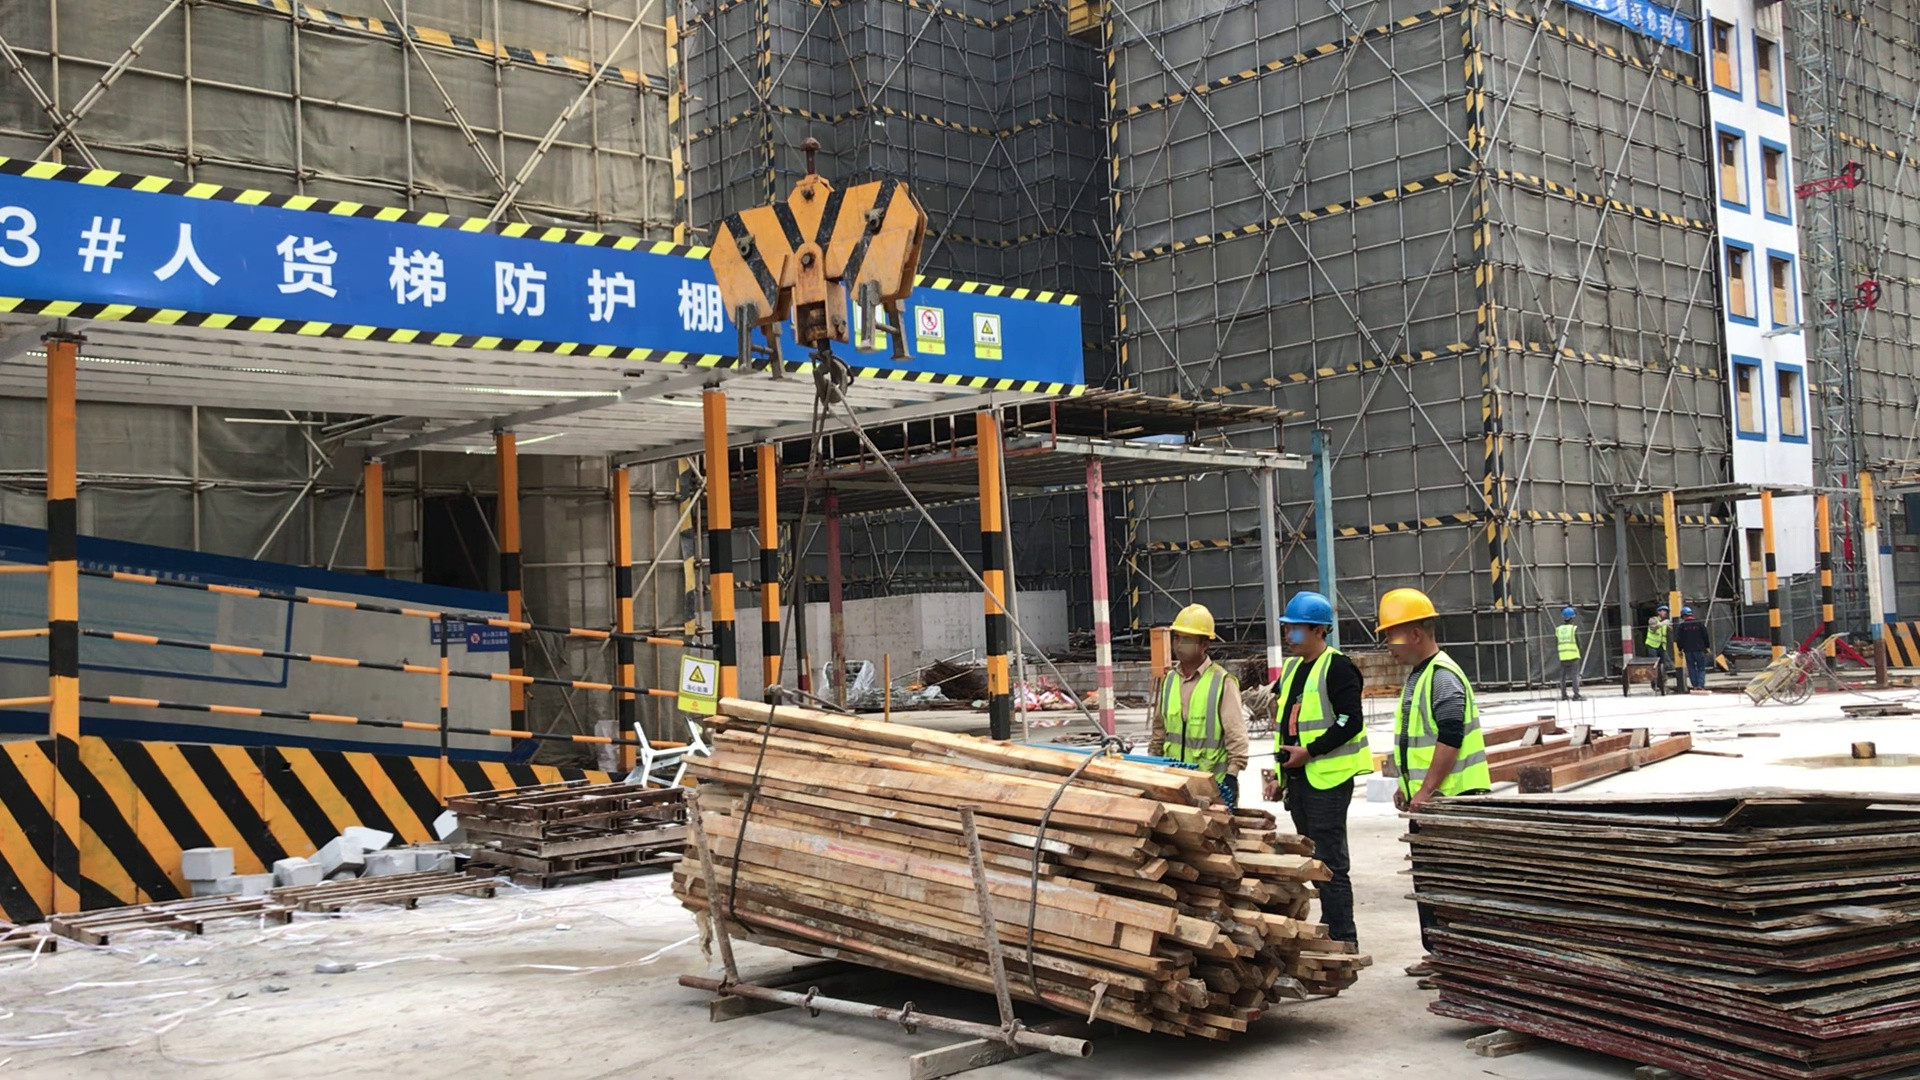board: (1403, 780, 1920, 1075)
handcart: (1742, 648, 1830, 711)
helmet: (1375, 587, 1442, 634), (1276, 590, 1340, 629), (1168, 601, 1217, 641), (1560, 608, 1577, 621), (1679, 606, 1693, 618), (1656, 604, 1670, 612)
hook: (703, 131, 935, 406)
person: (1376, 586, 1496, 991), (1265, 589, 1380, 967), (1145, 597, 1252, 809), (1550, 602, 1590, 705), (1672, 607, 1714, 693), (1645, 600, 1669, 695)
vest: (1271, 645, 1378, 792), (1393, 649, 1490, 804), (1150, 666, 1231, 784), (1547, 619, 1589, 671)
wood: (648, 678, 1361, 1071)
